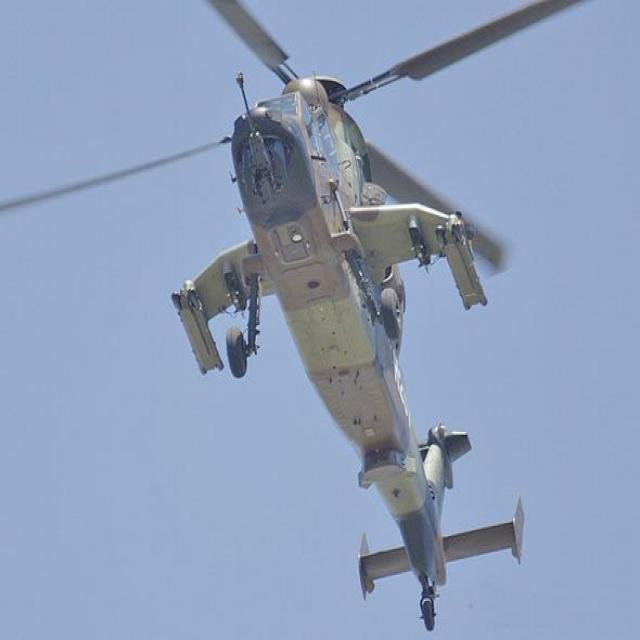MIL_HELO: (11, 0, 640, 631)
